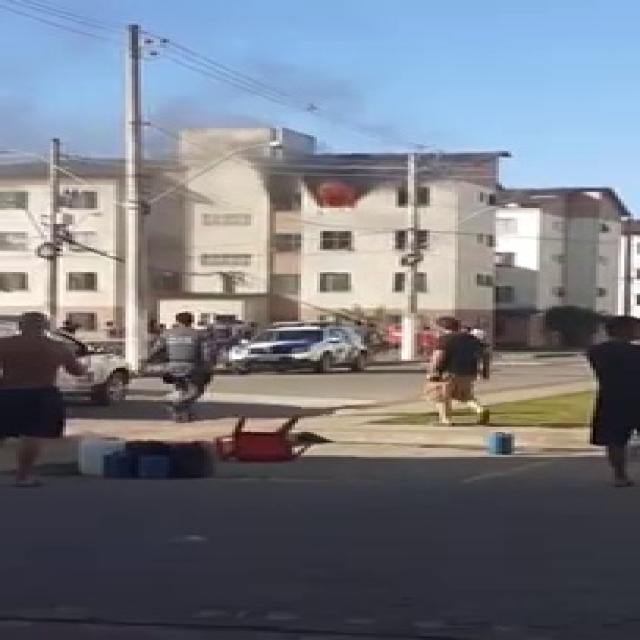Smoke: (12, 2, 364, 188)
